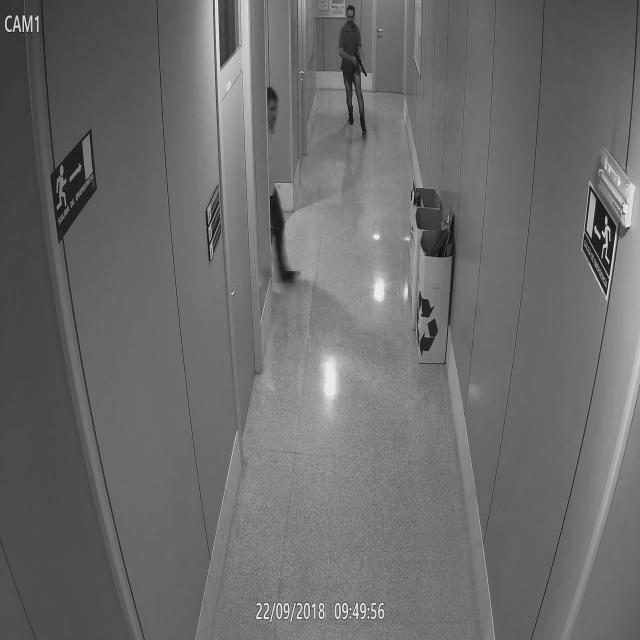gun: (354, 49, 369, 81)
person: (266, 82, 301, 286)
person with a gun: (336, 3, 374, 143)
